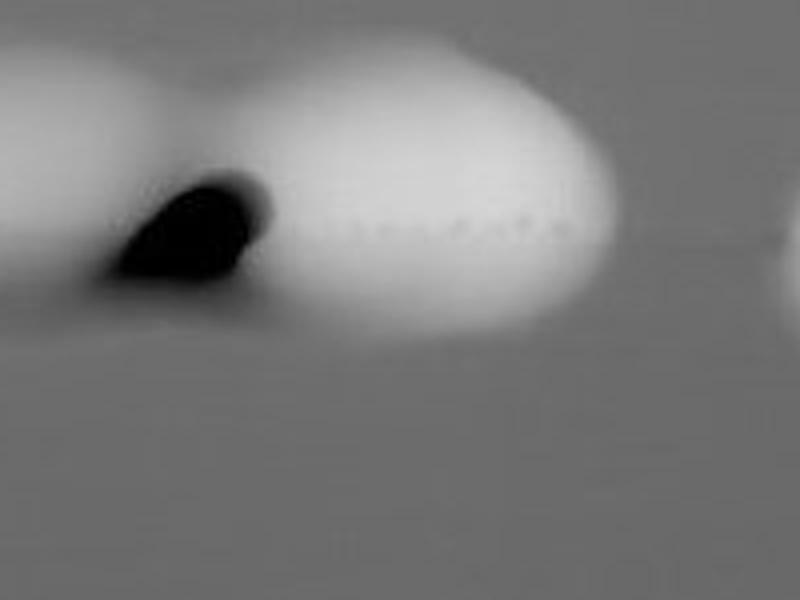defect: (117, 187, 250, 280), (452, 210, 477, 232), (548, 218, 574, 239), (514, 212, 536, 236)
